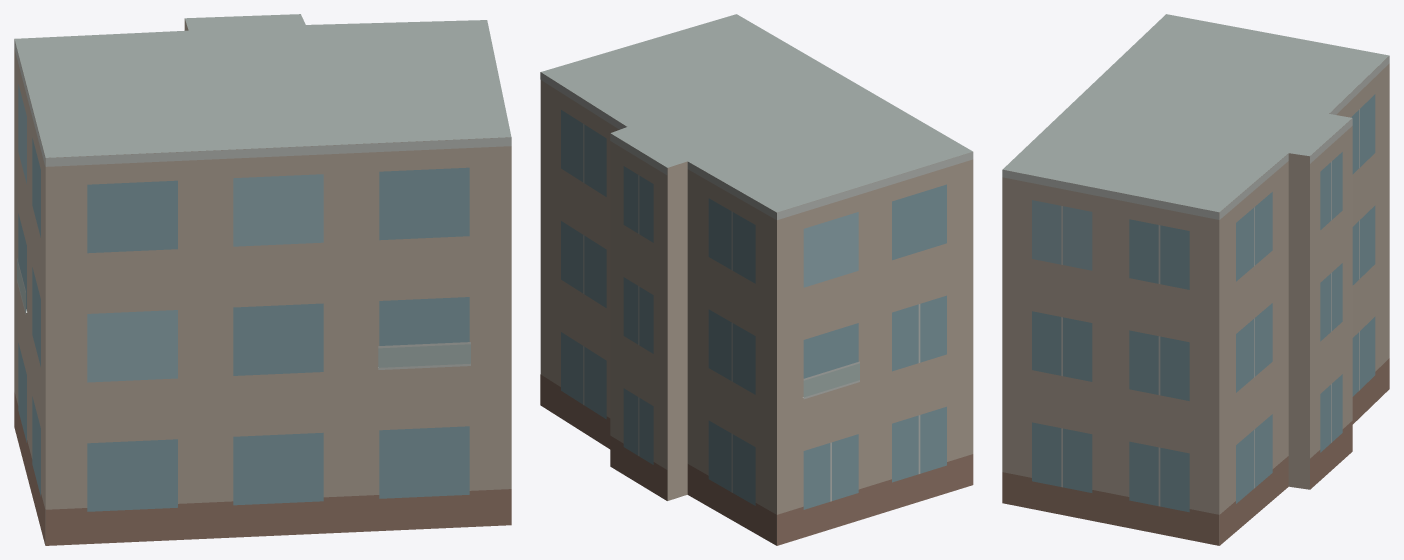
Rendered from survey-upis-32659172.glb.
The picture shows the model from 3 angles, left to right: view 1: azimuth 30°, elevation 25°; view 2: azimuth 150°, elevation 25°; view 3: azimuth 270°, elevation 25°; orthographic projection. The views are drawn at different scales.
Visible parts, largest first — view 1: survey-upis-32659172.tmp; view 2: survey-upis-32659172.tmp; view 3: survey-upis-32659172.tmp.
Boxes of the visible parts, x1,y1,x2,y2 form: survey-upis-32659172.tmp: [14, 14, 511, 545]; survey-upis-32659172.tmp: [540, 14, 973, 545]; survey-upis-32659172.tmp: [1002, 14, 1389, 545].
Size of the model in its own units: 13.46 by 10.55 by 11.11.
